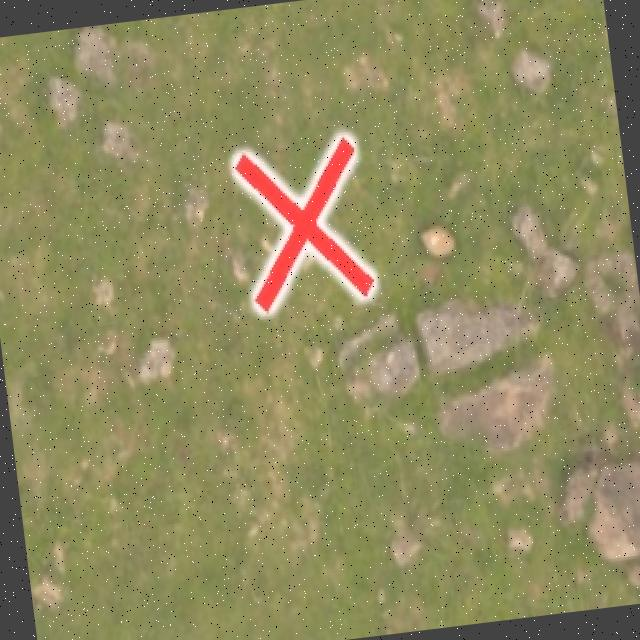x_marker: (232, 135, 374, 311)
